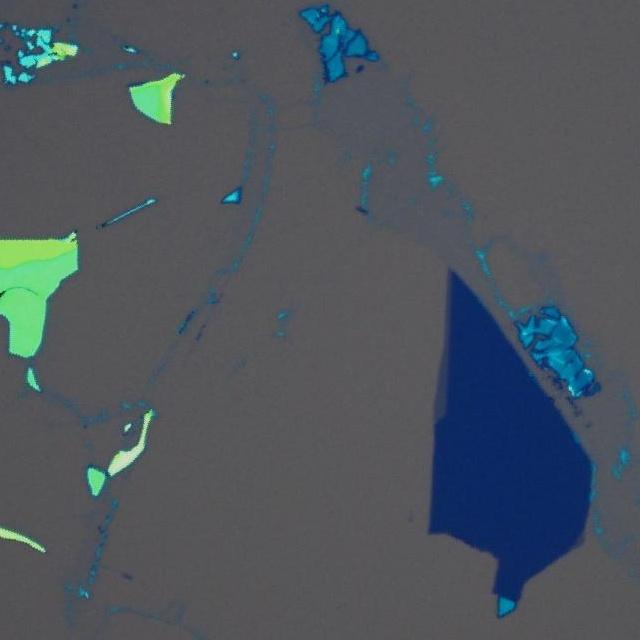monolayer-eWW4: (434, 268, 458, 422)
